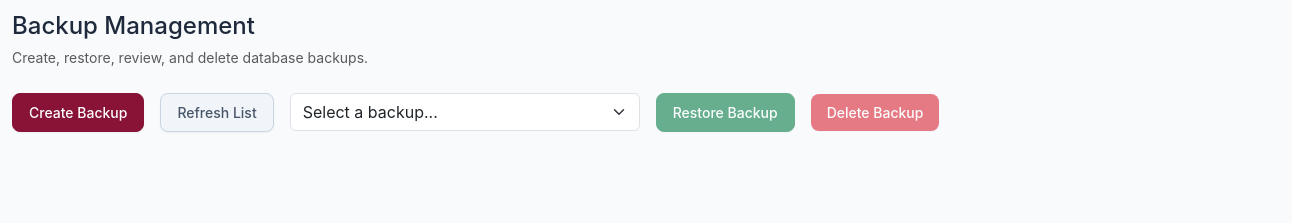
Test: BackupManagementTab › should show delete error
Select "backup1.sql" in the dropdown. click: (465, 112)
box: [290,93,640,131]
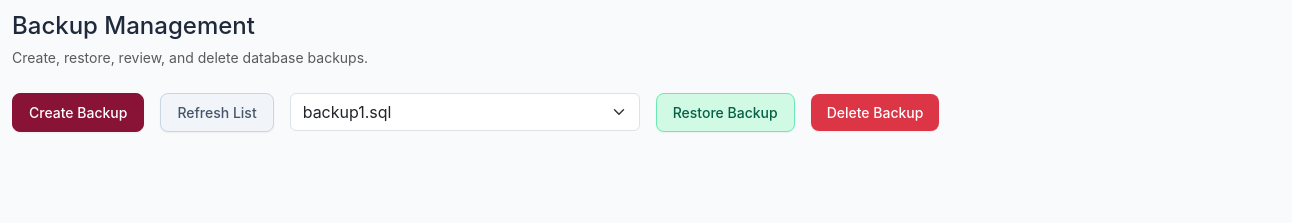
Click the button "Delete Backup". click: (875, 112)
box: [811,94,939,131]
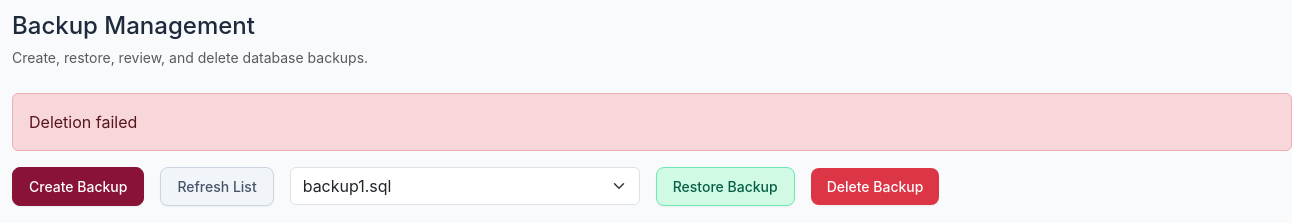
Now the text "Deletion failed" is shown, box [12,93,1291,151]
